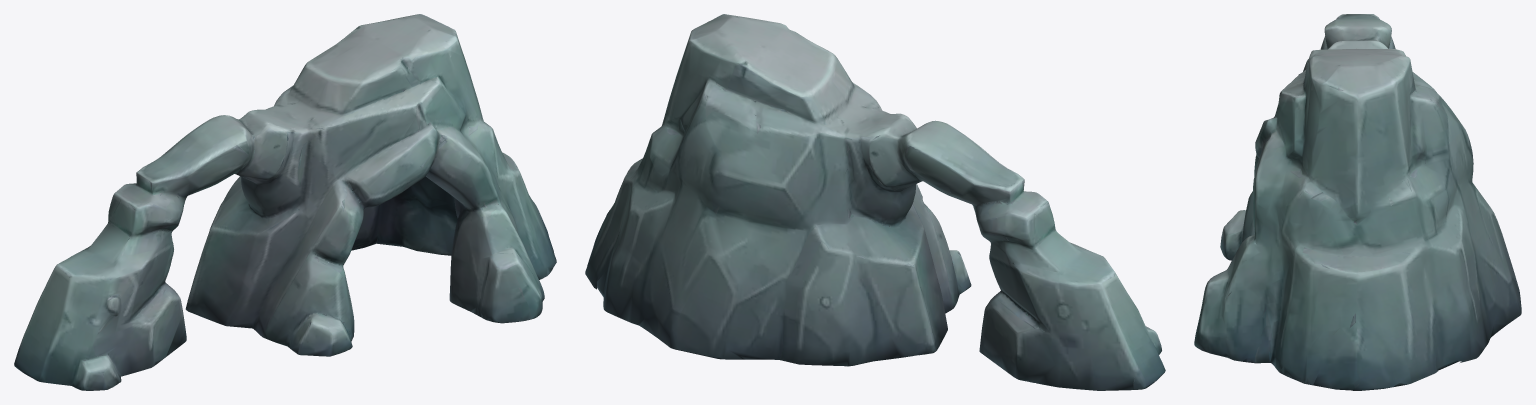
File: decor_rock.glb
3 renders of one model, left to right at view 1: azimuth 30°, elevation 25°; view 2: azimuth 150°, elevation 25°; view 3: azimuth 270°, elevation 25°, orthographic. The views are drawn at different scales.
Visible parts, largest first — view 1: Mesh_0; view 2: Mesh_0; view 3: Mesh_0.
Part boxes in pixels (x1,y1,x2,y2): Mesh_0: (14, 14, 556, 390); Mesh_0: (585, 14, 1165, 390); Mesh_0: (1194, 14, 1521, 390).
Size of the model in its own units: 1.91 by 0.8568 by 0.9702.
Materials: 1 (1 with a texture image).
